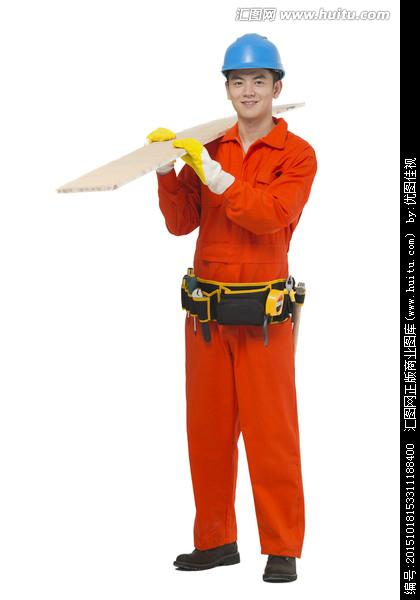helmet: (222, 36, 287, 78)
